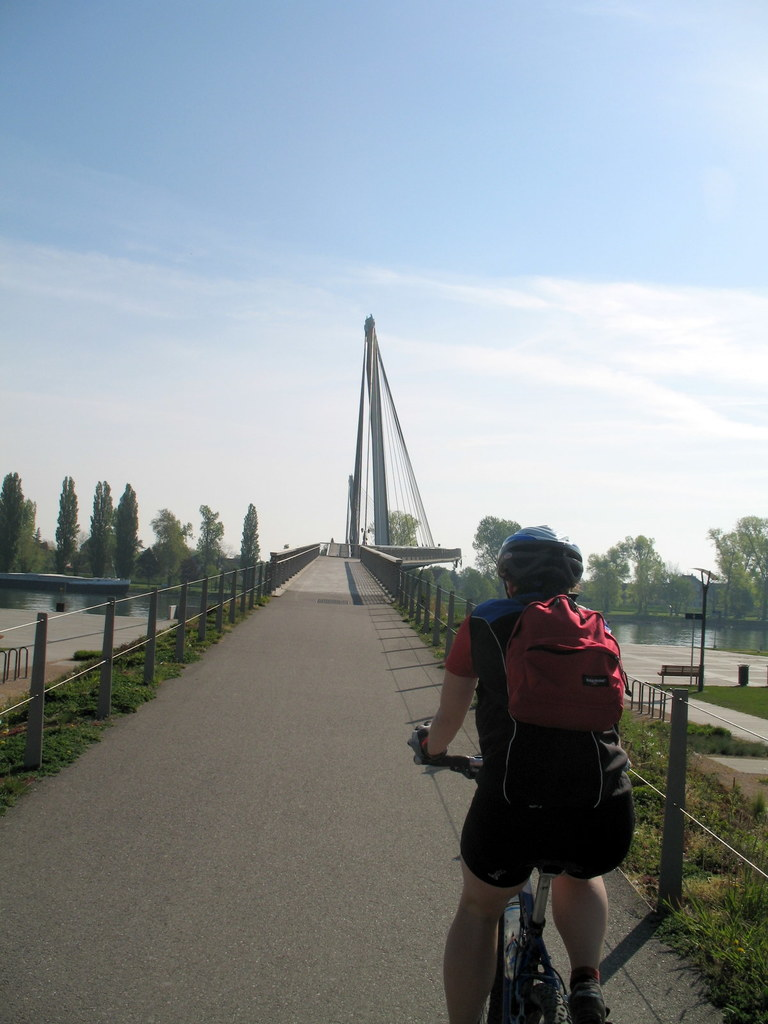Bike_away: (385, 727, 613, 1024)
